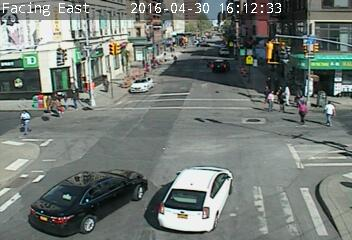neg: (138, 86, 177, 139), (25, 159, 62, 208), (207, 115, 241, 159), (114, 12, 145, 52), (83, 161, 113, 201), (240, 178, 266, 214), (299, 160, 325, 195), (304, 32, 330, 67), (170, 166, 196, 200), (71, 32, 92, 60), (168, 1, 185, 24), (205, 8, 220, 28), (25, 3, 36, 17), (151, 58, 161, 72), (189, 53, 199, 66)
pos: (321, 95, 346, 129), (47, 88, 70, 118), (261, 88, 281, 115), (273, 90, 292, 115), (15, 110, 34, 135), (293, 100, 312, 124), (97, 77, 110, 94)
